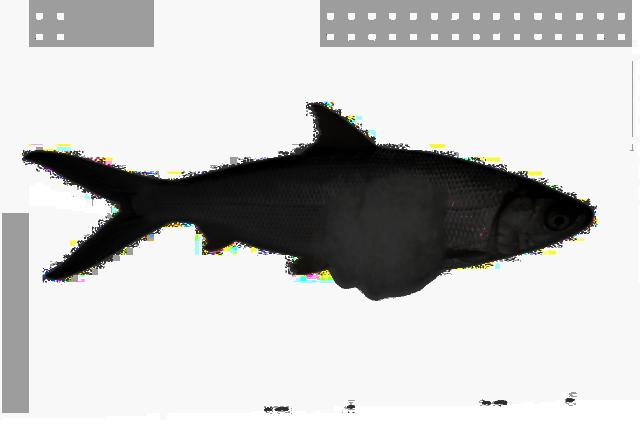Fungal Disease -Saprolegniasis-: (27, 105, 592, 295), (28, 105, 592, 295), (28, 105, 592, 294)
